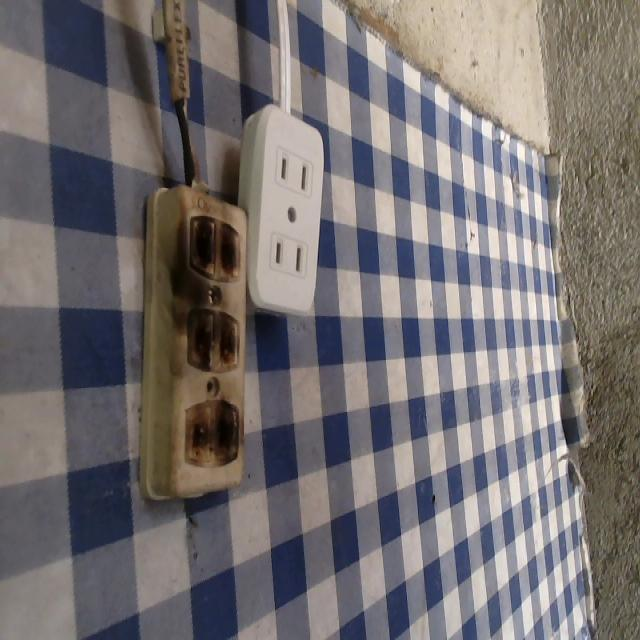-: (185, 209, 242, 283), (181, 398, 240, 466), (184, 304, 239, 373)
